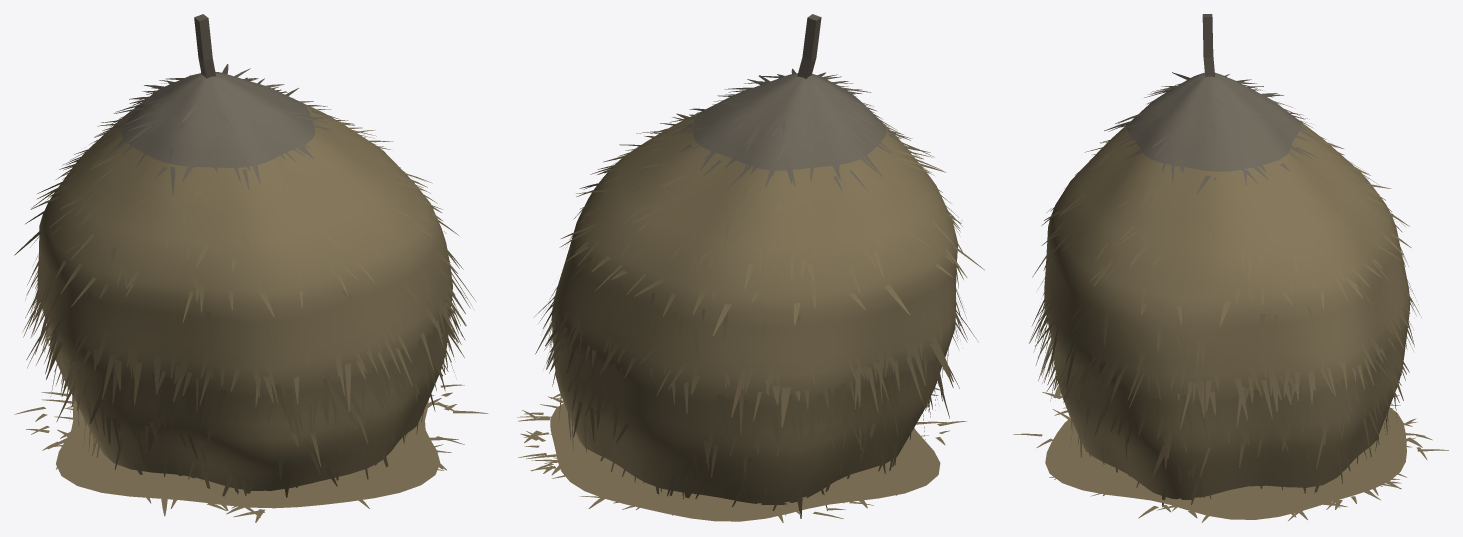
File: lees_place_haystack_1812_b__lees_place_1812.glb
3 renders of one model, left to right at view 1: azimuth 30°, elevation 25°; view 2: azimuth 150°, elevation 25°; view 3: azimuth 270°, elevation 25°, orthographic. The views are drawn at different scales.
Parts seen in each view (by area): view 1: lees_place_haystack_1812_b__lees_place_1812; view 2: lees_place_haystack_1812_b__lees_place_1812; view 3: lees_place_haystack_1812_b__lees_place_1812.
Part boxes in pixels (bbox=[...]): lees_place_haystack_1812_b__lees_place_1812: bbox=[14, 14, 488, 522]; lees_place_haystack_1812_b__lees_place_1812: bbox=[517, 14, 984, 522]; lees_place_haystack_1812_b__lees_place_1812: bbox=[1013, 14, 1448, 522].
Size of the model in its own units: 4.65 by 4.86 by 4.66.
